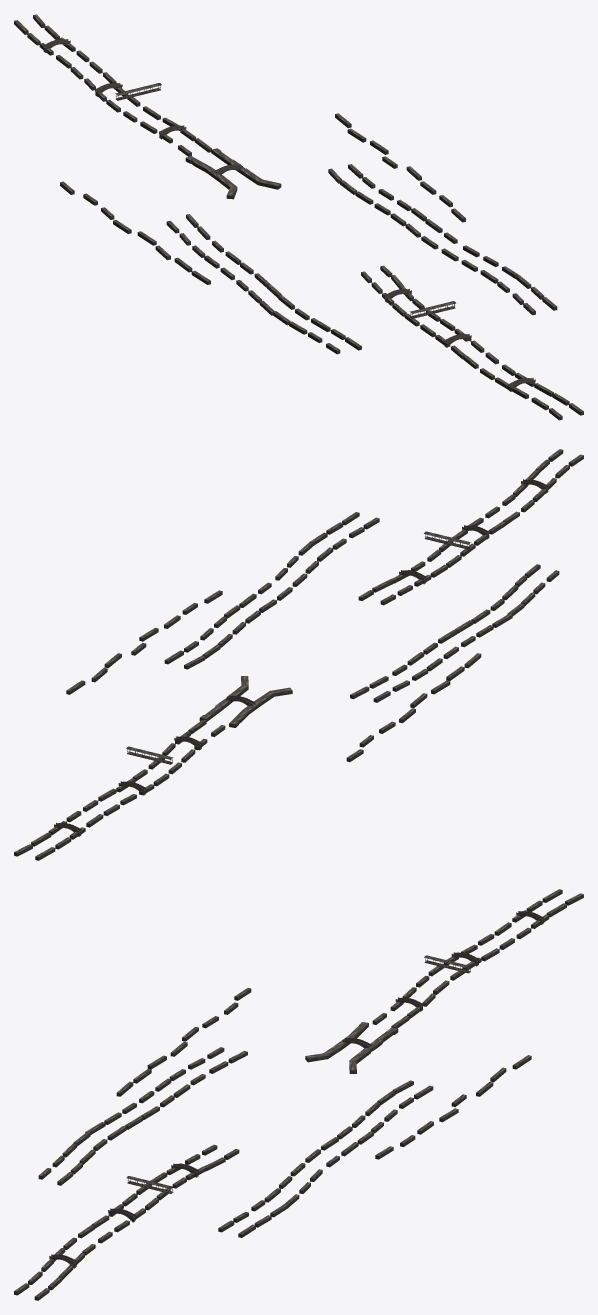
Rendered from canal_distant.glb.
The picture shows the model from 3 angles, top to bottom: view 1: azimuth 30°, elevation 25°; view 2: azimuth 150°, elevation 25°; view 3: azimuth 330°, elevation 25°; orthographic projection.
Parts seen in each view (by area): view 1: canal_distant0; view 2: canal_distant0; view 3: canal_distant0.
Boxes of the visible parts, <box> form: canal_distant0: <box>14,14,583,420</box>; canal_distant0: <box>14,449,583,860</box>; canal_distant0: <box>14,889,583,1300</box>.
Size of the model in its own units: 104 by 7.24 by 347.
1 material, 1 textured.
